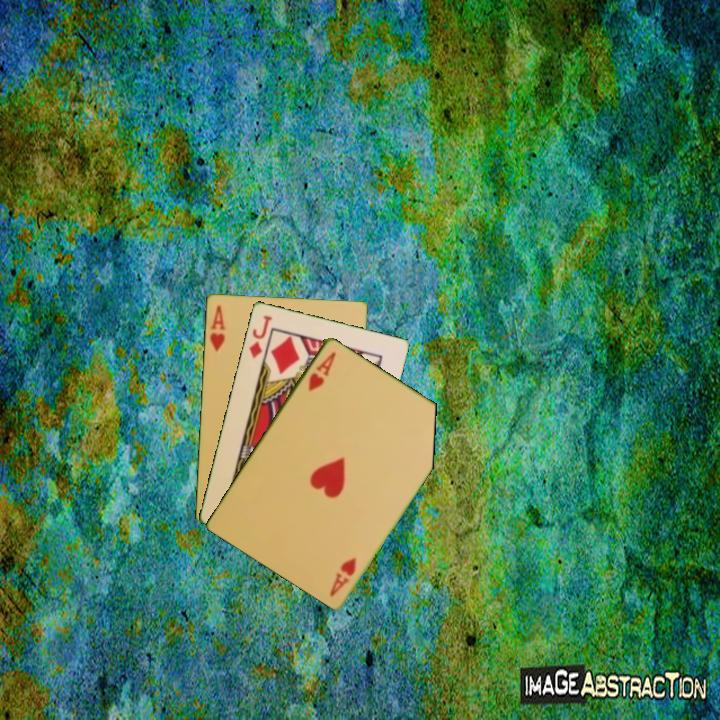Ah: (304, 348, 339, 393), (326, 553, 359, 599), (206, 301, 228, 354)
Jd: (245, 311, 275, 361)
